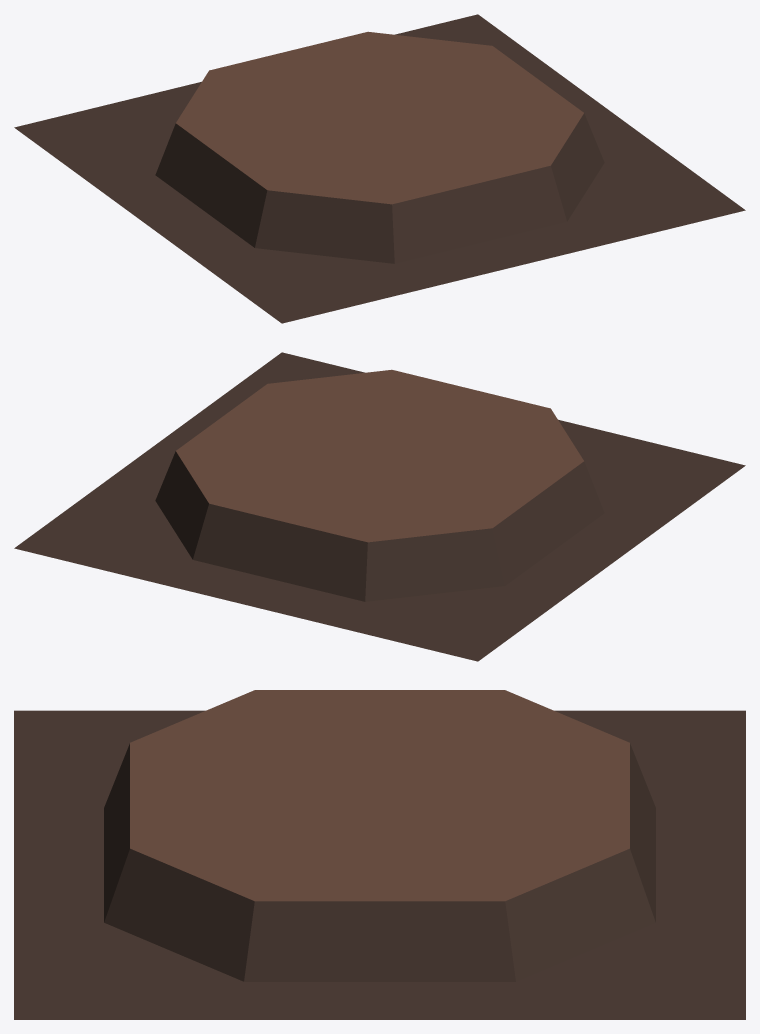
File: LPHorror_Cieling2.fbx
3 views of the same model, one above another, from view 1: azimuth 30°, elevation 25°; view 2: azimuth 150°, elevation 25°; view 3: azimuth 270°, elevation 25° (orthographic). The views are drawn at different scales.
Visible parts, largest first — view 1: Cieling2; view 2: Cieling2; view 3: Cieling2.
Boxes of the visible parts, x1,y1,x2,y2 form: Cieling2: [14, 14, 745, 323]; Cieling2: [14, 352, 745, 661]; Cieling2: [14, 690, 745, 1019].
Size of the model in its own units: 200 by 20.97 by 200.
